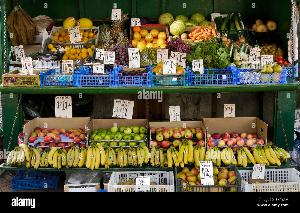apple: (180, 166, 238, 196), (85, 120, 147, 148), (207, 120, 265, 148), (26, 120, 84, 148), (148, 120, 206, 146)
banana: (7, 144, 290, 168)
carrot: (186, 24, 222, 41)
grape: (167, 36, 191, 60), (136, 48, 164, 68), (110, 41, 130, 65)
orange: (132, 26, 168, 52)
plum: (46, 44, 94, 60), (50, 30, 98, 45)
